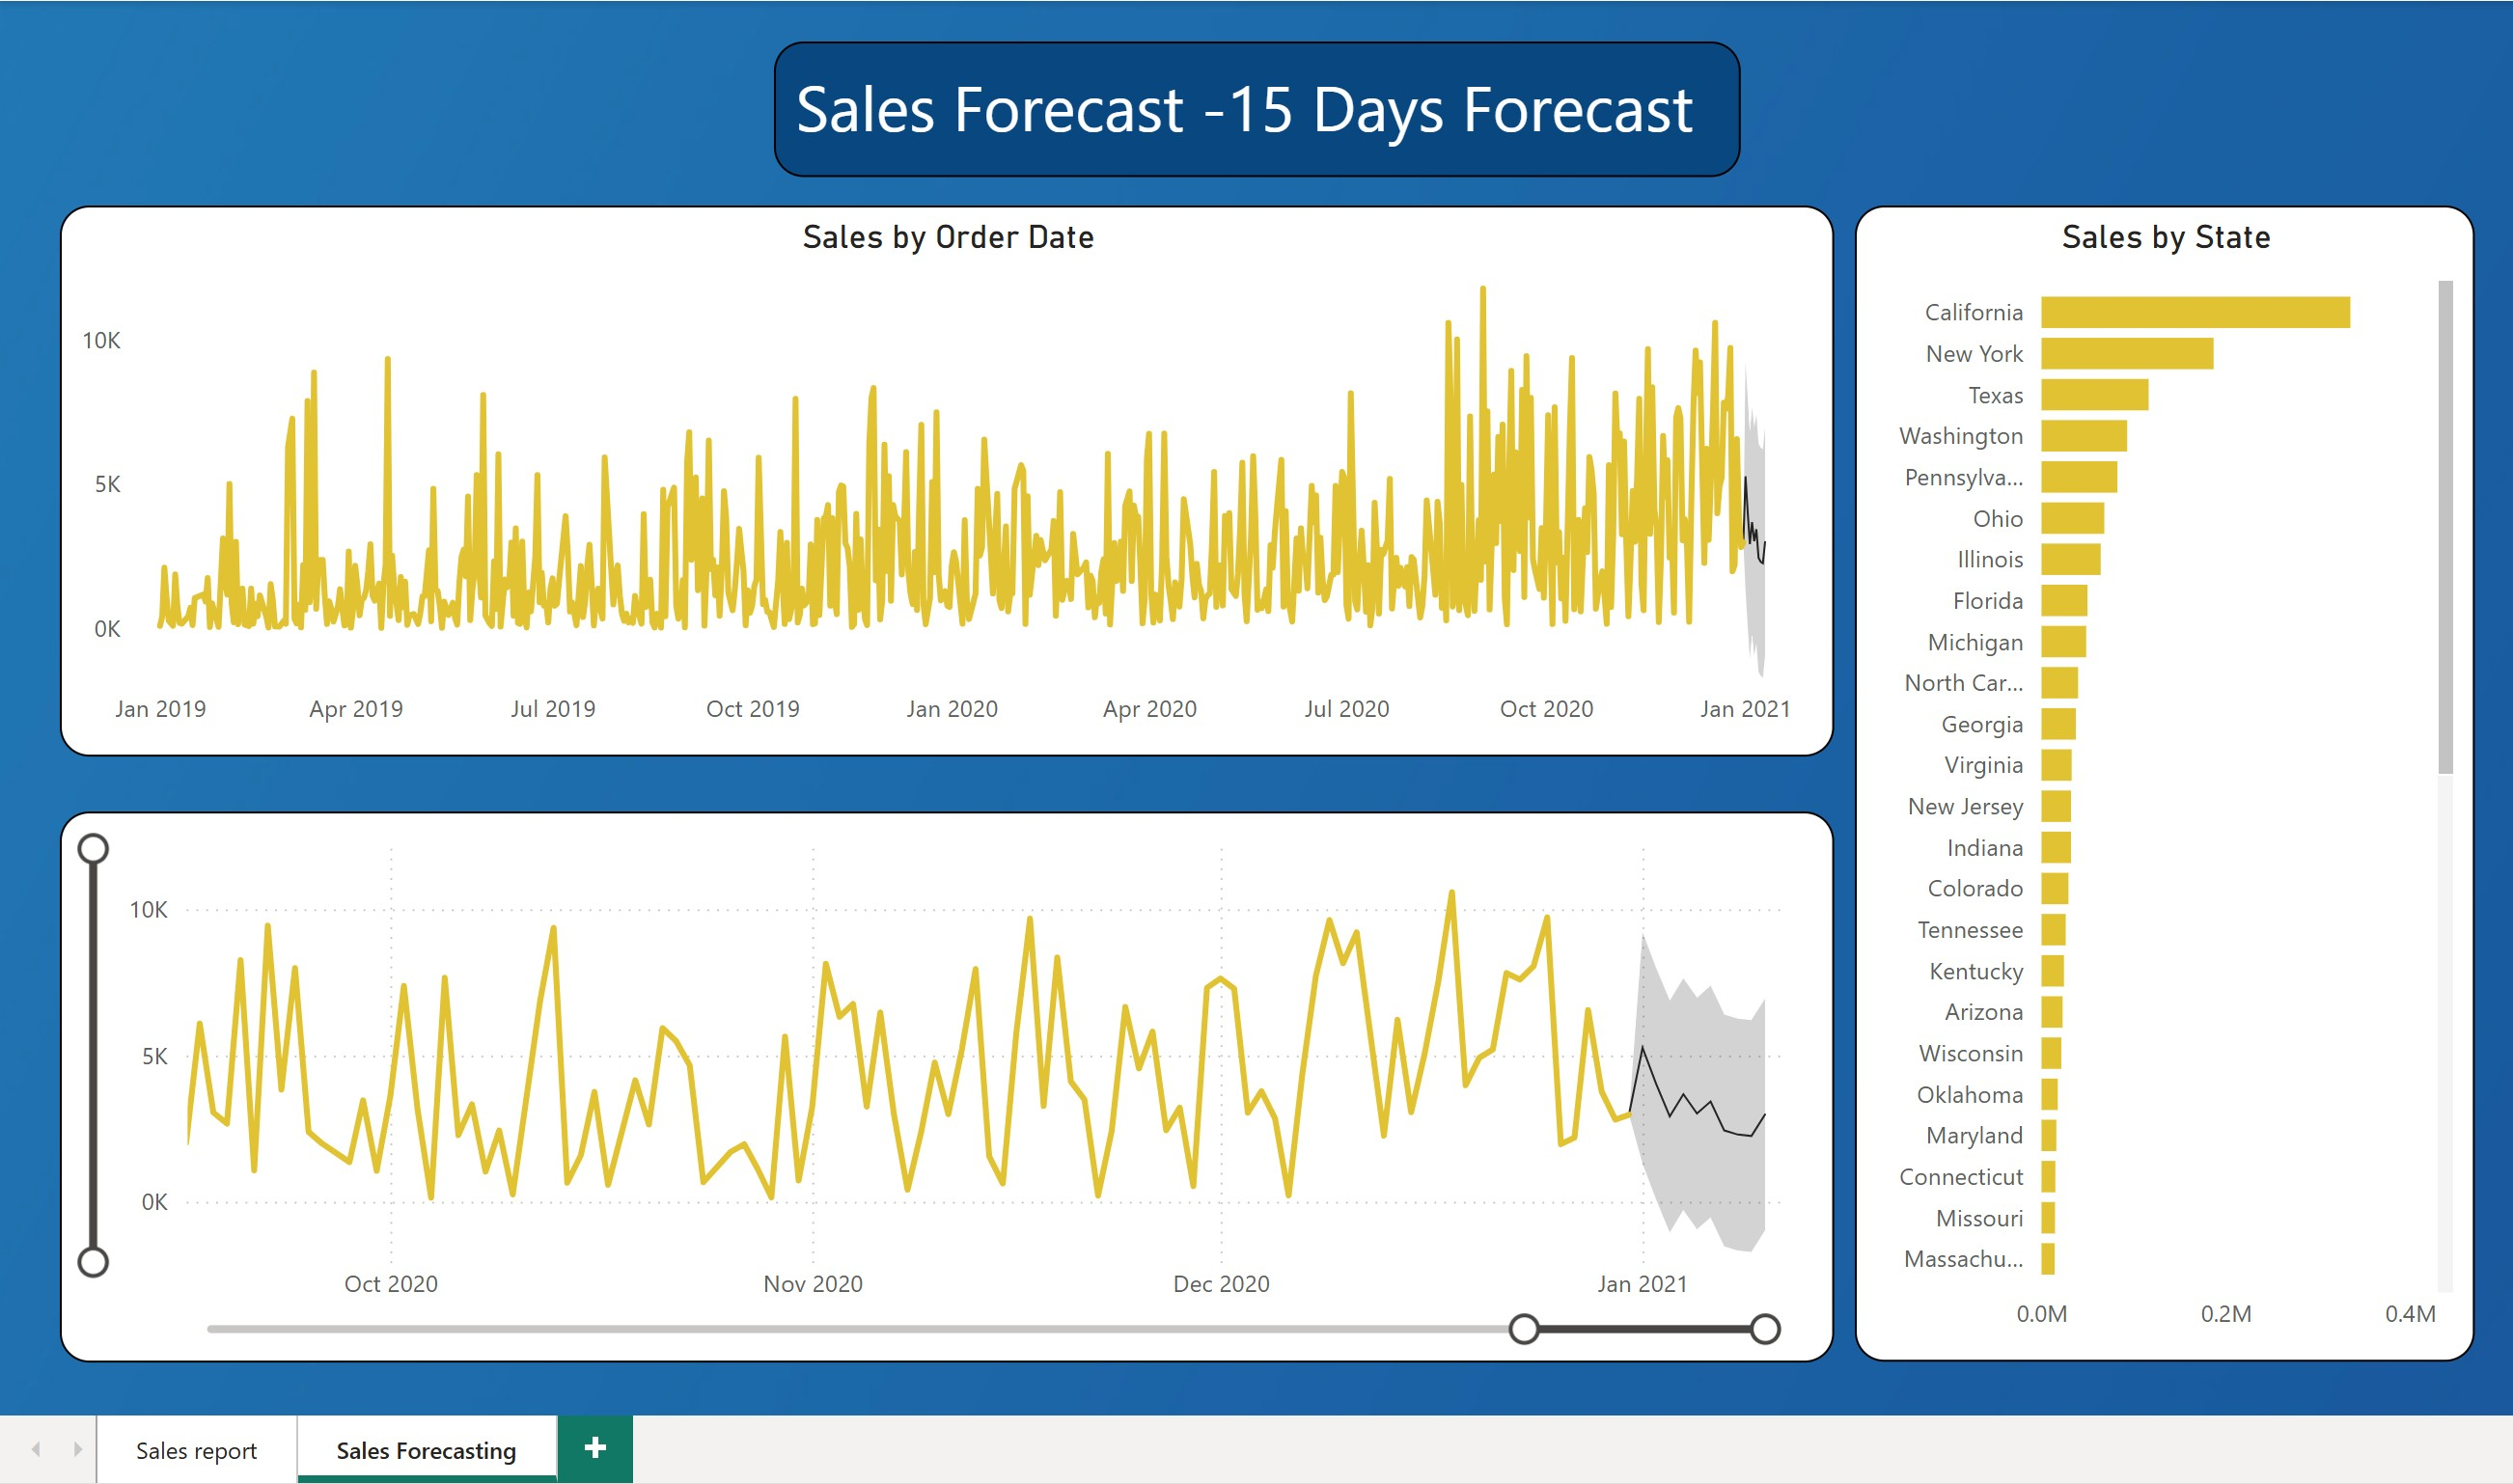

What the dashboard file says about the page in this screenshot:
{"tool":"powerbi","page":{"name":"Sales Forecasting","canvas":[1280,720],"ordinal":1},"visuals":[{"type":"lineChart","title":"Sales by Order Date","fields":{"Y":["Sum(SuperStore_Sales_Dataset (1).Sales)"],"Category":["SuperStore_Sales_Dataset (1).Order Date"]},"box":[31.9,104.5,902.8,280.4],"z":0},{"type":"lineChart","title":"Sales by Order Date","fields":{"Y":["Sum(SuperStore_Sales_Dataset (1).Sales)"],"Category":["SuperStore_Sales_Dataset (1).Order Date"]},"box":[31.9,412.4,902.8,280.4],"z":1},{"type":"textbox","box":[394.9,20.6,492.1,68.8],"z":2},{"type":"barChart","title":"Sales by State","fields":{"Category":["SuperStore_Sales_Dataset (1).State"],"Y":["Sum(SuperStore_Sales_Dataset (1).Sales)"]},"box":[944.6,104.5,315.6,588.3],"z":3}]}

Visuals, with their boxes in screenshot pixels (x1, y1, x2, y2):
"Sales by Order Date" lineChart: detection(88, 208, 1836, 752)
"Sales by Order Date" lineChart: detection(88, 805, 1836, 1348)
textbox: detection(790, 46, 1744, 179)
"Sales by State" barChart: detection(1855, 208, 2466, 1348)
